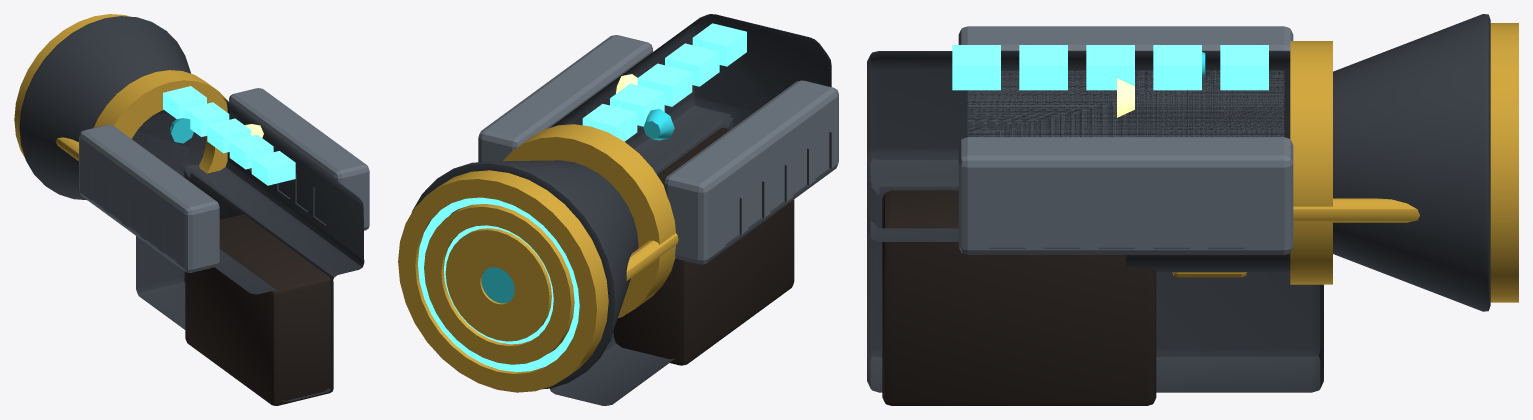
File: GravityGauntlet_L.fbx
3 renders of one model, left to right at view 1: azimuth 30°, elevation 25°; view 2: azimuth 150°, elevation 25°; view 3: azimuth 270°, elevation 25°, orthographic. The views are drawn at different scales.
Visible parts, largest first — view 1: VISUAL_原创机械重力护腕_Grip, VISUAL_原创机械重力护腕_Body, VISUAL_原创机械重力护腕_EmitterDish, VISUAL_原创机械重力护腕_SideArmor_R, VISUAL_原创机械重力护腕_SideArmor_L, VISUAL_原创机械重力护腕_EmitterFlange, VISUAL_原创机械重力护腕_EnergyCoil_00, VISUAL_原创机械重力护腕_EnergyBar_0, VISUAL_原创机械重力护腕_EnergyBar_1, VISUAL_原创机械重力护腕_EnergyBar_2, VISUAL_原创机械重力护腕_EnergyBar_4, VISUAL_原创机械重力护腕_EnergyBar_3 (+2 smaller); view 2: VISUAL_原创机械重力护腕_SideArmor_R, VISUAL_原创机械重力护腕_Body, VISUAL_原创机械重力护腕_Grip, VISUAL_原创机械重力护腕_EnergyCoil_00, VISUAL_原创机械重力护腕_EmitterFlange, VISUAL_原创机械重力护腕_EmitterDish, VISUAL_原创机械重力护腕_EnergyCoil_01, VISUAL_原创机械重力护腕_SideArmor_L, VISUAL_原创机械重力护腕_EnergyCoil_02, VISUAL_原创机械重力护腕_GlowRing_0, VISUAL_原创机械重力护腕_EnergyCoil_03, VISUAL_原创机械重力护腕_EnergyBar_2 (+8 smaller); view 3: VISUAL_原创机械重力护腕_Body, VISUAL_原创机械重力护腕_Grip, VISUAL_原创机械重力护腕_SideArmor_L, VISUAL_原创机械重力护腕_EmitterDish, VISUAL_原创机械重力护腕_SideArmor_R, VISUAL_原创机械重力护腕_EmitterFlange, VISUAL_原创机械重力护腕_EnergyCoil_00, VISUAL_原创机械重力护腕_TriggerGuard, VISUAL_原创机械重力护腕_Pipe_L, VISUAL_原创机械重力护腕_EnergyBar_0, VISUAL_原创机械重力护腕_EnergyBar_1, VISUAL_原创机械重力护腕_EnergyBar_3 (+3 smaller).
Part boxes in pixels (<box>): VISUAL_原创机械重力护腕_Grip: <box>185,214,333,405</box>; VISUAL_原创机械重力护腕_Body: <box>132,97,364,401</box>; VISUAL_原创机械重力护腕_EmitterDish: <box>19,16,206,199</box>; VISUAL_原创机械重力护腕_SideArmor_R: <box>79,124,219,272</box>; VISUAL_原创机械重力护腕_SideArmor_L: <box>229,88,369,230</box>; VISUAL_原创机械重力护腕_EmitterFlange: <box>94,70,228,173</box>; VISUAL_原创机械重力护腕_EnergyCoil_00: <box>14,14,129,157</box>; VISUAL_原创机械重力护腕_EnergyBar_0: <box>251,151,295,185</box>; VISUAL_原创机械重力护腕_EnergyBar_1: <box>229,134,273,169</box>; VISUAL_原创机械重力护腕_EnergyBar_2: <box>207,118,251,153</box>; VISUAL_原创机械重力护腕_EnergyBar_4: <box>163,86,206,118</box>; VISUAL_原创机械重力护腕_EnergyBar_3: <box>185,102,229,136</box>; VISUAL_原创机械重力护腕_SideArmor_R: <box>664,80,838,264</box>; VISUAL_原创机械重力护腕_Body: <box>550,14,831,405</box>; VISUAL_原创机械重力护腕_Grip: <box>613,128,794,365</box>; VISUAL_原创机械重力护腕_EnergyCoil_00: <box>398,170,608,392</box>; VISUAL_原创机械重力护腕_EmitterFlange: <box>503,124,675,318</box>; VISUAL_原创机械重力护腕_EmitterDish: <box>411,160,638,389</box>; VISUAL_原创机械重力护腕_EnergyCoil_01: <box>424,204,574,364</box>; VISUAL_原创机械重力护腕_SideArmor_L: <box>478,35,652,162</box>; VISUAL_原创机械重力护腕_EnergyCoil_02: <box>445,228,551,341</box>; VISUAL_原创机械重力护腕_GlowRing_0: <box>418,197,579,372</box>; VISUAL_原创机械重力护腕_EnergyCoil_03: <box>463,248,531,322</box>; VISUAL_原创机械重力护腕_EnergyBar_2: <box>637,63,692,106</box>; VISUAL_原创机械重力护腕_Body: <box>867,51,1323,392</box>; VISUAL_原创机械重力护腕_Grip: <box>882,190,1156,405</box>; VISUAL_原创机械重力护腕_SideArmor_L: <box>958,137,1293,254</box>; VISUAL_原创机械重力护腕_EmitterDish: <box>1333,14,1490,311</box>; VISUAL_原创机械重力护腕_SideArmor_R: <box>958,26,1293,136</box>; VISUAL_原创机械重力护腕_EmitterFlange: <box>1290,41,1332,284</box>; VISUAL_原创机械重力护腕_EnergyCoil_00: <box>1490,23,1518,302</box>; VISUAL_原创机械重力护腕_TriggerGuard: <box>1126,253,1290,272</box>; VISUAL_原创机械重力护腕_Pipe_L: <box>1293,198,1419,222</box>; VISUAL_原创机械重力护腕_EnergyBar_0: <box>952,45,1000,90</box>; VISUAL_原创机械重力护腕_EnergyBar_1: <box>1019,45,1067,90</box>; VISUAL_原创机械重力护腕_EnergyBar_3: <box>1153,45,1201,90</box>.
Bounding box in the file's own units: 10.8 × 12.99 × 21.4.
